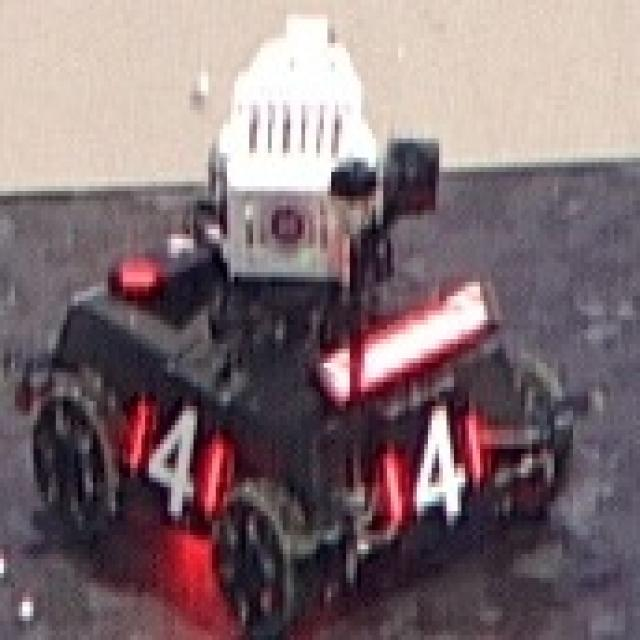R4: (380, 401, 480, 530), (127, 396, 223, 520)
